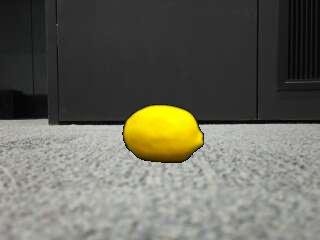lemon: (125, 105, 205, 162)
